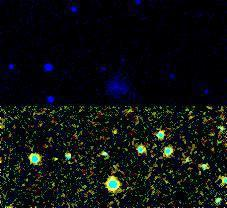star: (185, 157, 215, 187)
